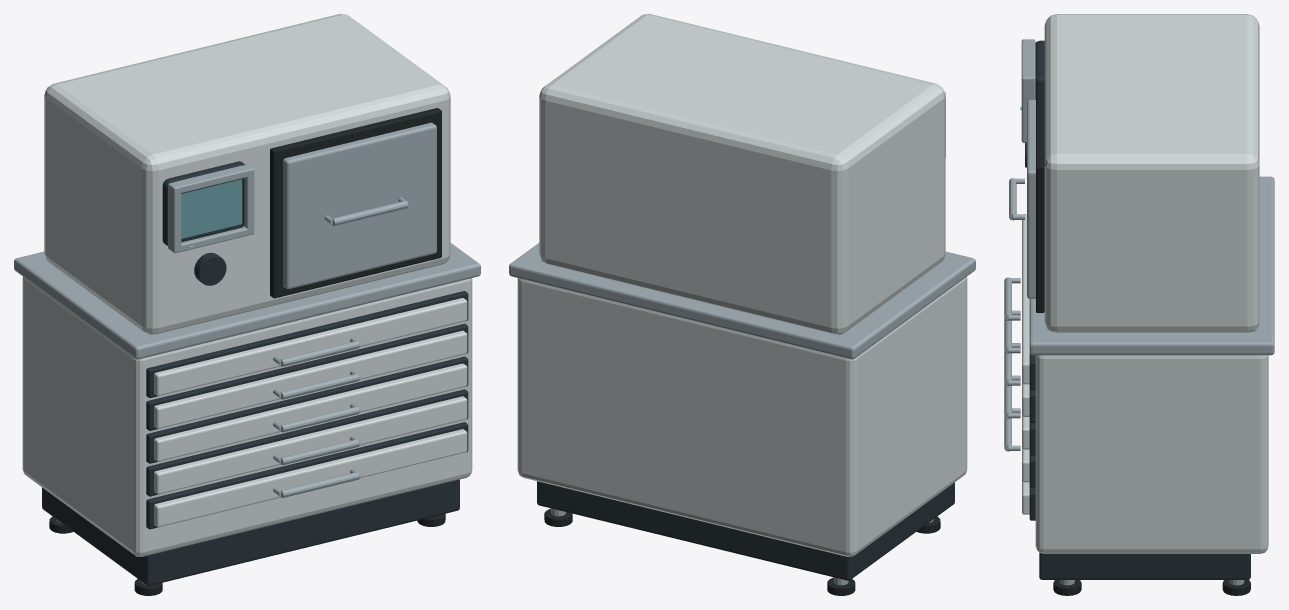
Rendered from RD_MedicalSterilizer.fbx.
3 renders of one model, left to right at view 1: azimuth 30°, elevation 25°; view 2: azimuth 150°, elevation 25°; view 3: azimuth 270°, elevation 25°, orthographic.
Parts seen in each view (by area): view 1: RD_MedicalSterilizer; view 2: RD_MedicalSterilizer; view 3: RD_MedicalSterilizer.
Part boxes in pixels (x1,y1,x2,y2): RD_MedicalSterilizer: [14, 14, 480, 595]; RD_MedicalSterilizer: [509, 14, 975, 595]; RD_MedicalSterilizer: [1004, 14, 1274, 595].
Bounding box in the file's own units: 112 × 137 × 76.65.
